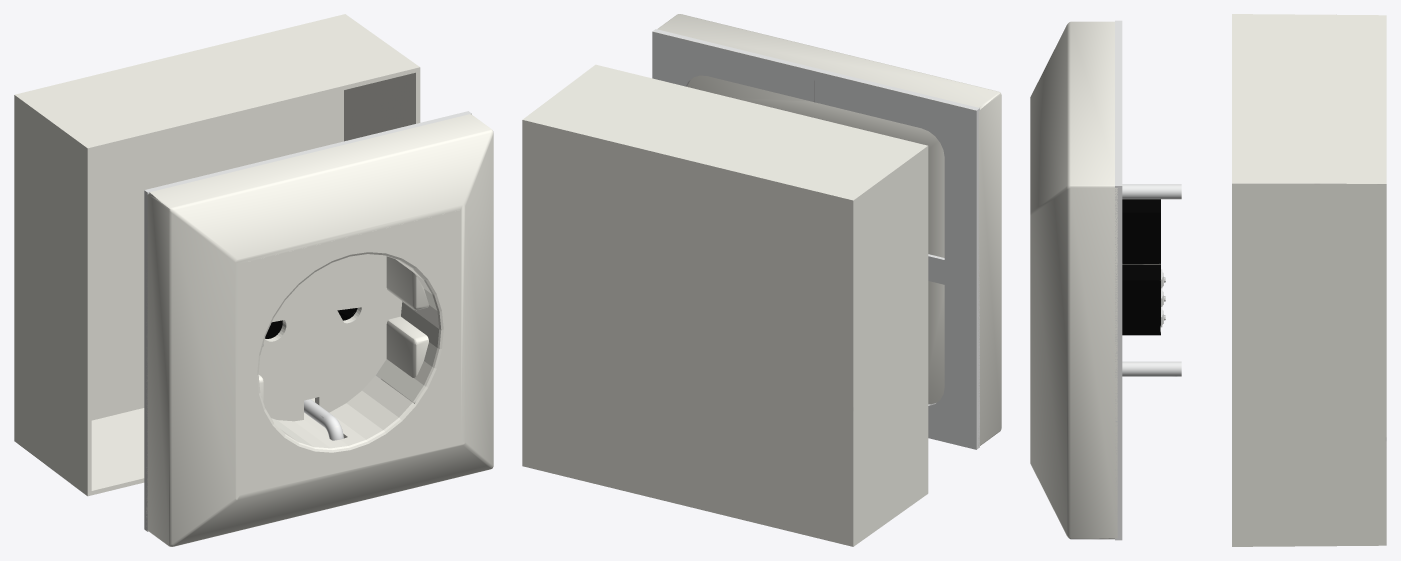
Rendered from Stop Kontak New.fbx.
3 views of the same model, side by side, from view 1: azimuth 30°, elevation 25°; view 2: azimuth 150°, elevation 25°; view 3: azimuth 270°, elevation 25° (orthographic). The views are drawn at different scales.
Parts seen in each view (by area): view 1: Cube.004, Cube, Cube.001, Cube.002, Cube.003, Cylinder.003; view 2: Cube.004, Cube.003, Cube; view 3: Cube.004, Cube, Cube.005, Cube.003, Cylinder.003.
Part boxes in pixels (left/top/right/bottom): Cube.004: left=14, top=14, right=420, bottom=496; Cube: left=146, top=114, right=493, bottom=546; Cube.001: left=240, top=210, right=460, bottom=494; Cube.002: left=258, top=256, right=428, bottom=401; Cube.003: left=144, top=111, right=471, bottom=531; Cylinder.003: left=304, top=399, right=343, bottom=440; Cube.004: left=522, top=64, right=928, bottom=546; Cube.003: left=652, top=29, right=979, bottom=449; Cube: left=657, top=14, right=1001, bottom=445; Cube.004: left=1232, top=14, right=1386, bottom=546; Cube: left=1030, top=21, right=1117, bottom=539; Cube.005: left=1122, top=199, right=1160, bottom=335; Cube.003: left=1115, top=20, right=1122, bottom=540; Cylinder.003: left=1122, top=184, right=1181, bottom=376.
Size of the model in its own units: 205 by 205 by 182.
2 materials, 2 textured.
